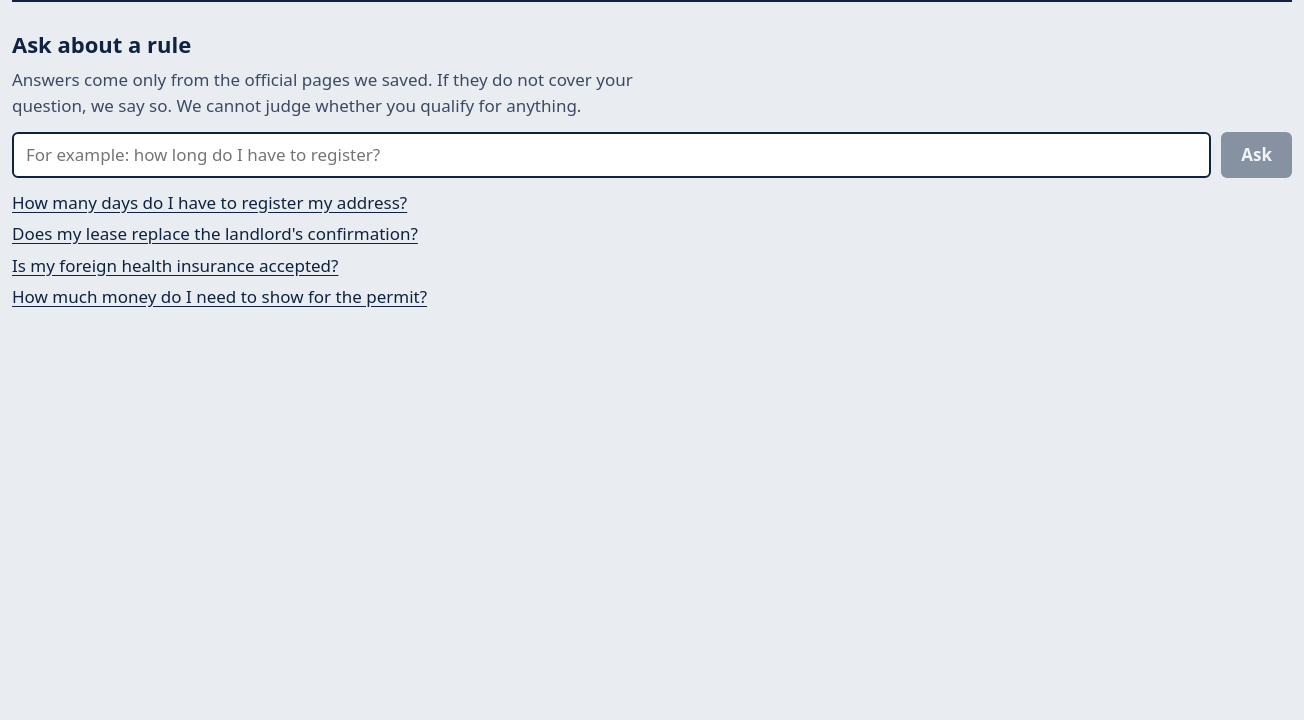
it: Ask form › a suggestion is submitted only after clicking Ask, then shows cited passages
What coordinates should you click on to do the following:
click the button "How many days do I have to register my address?"
I would click on:
 (210, 202)
Its box is [12, 190, 407, 215].
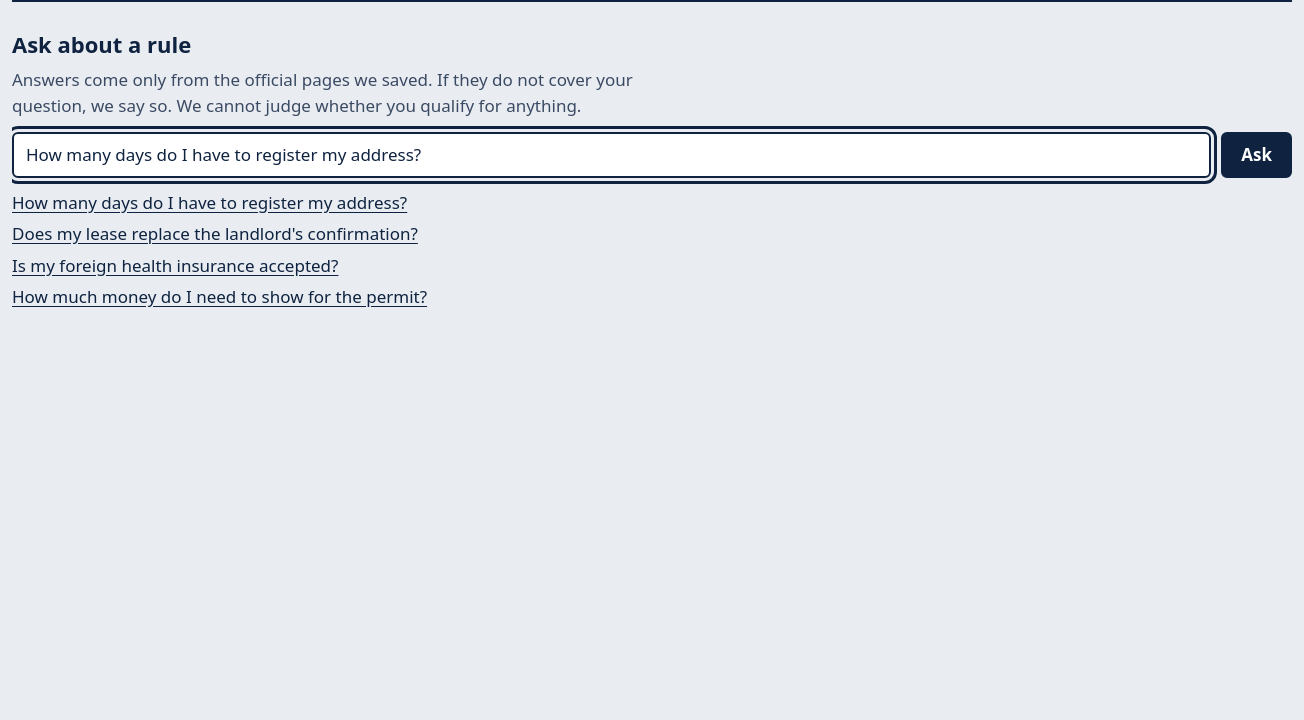
What coordinates should you click on to do the following:
click the button "Ask"
I would click on:
 (1257, 155)
Its box is [1221, 132, 1292, 178].
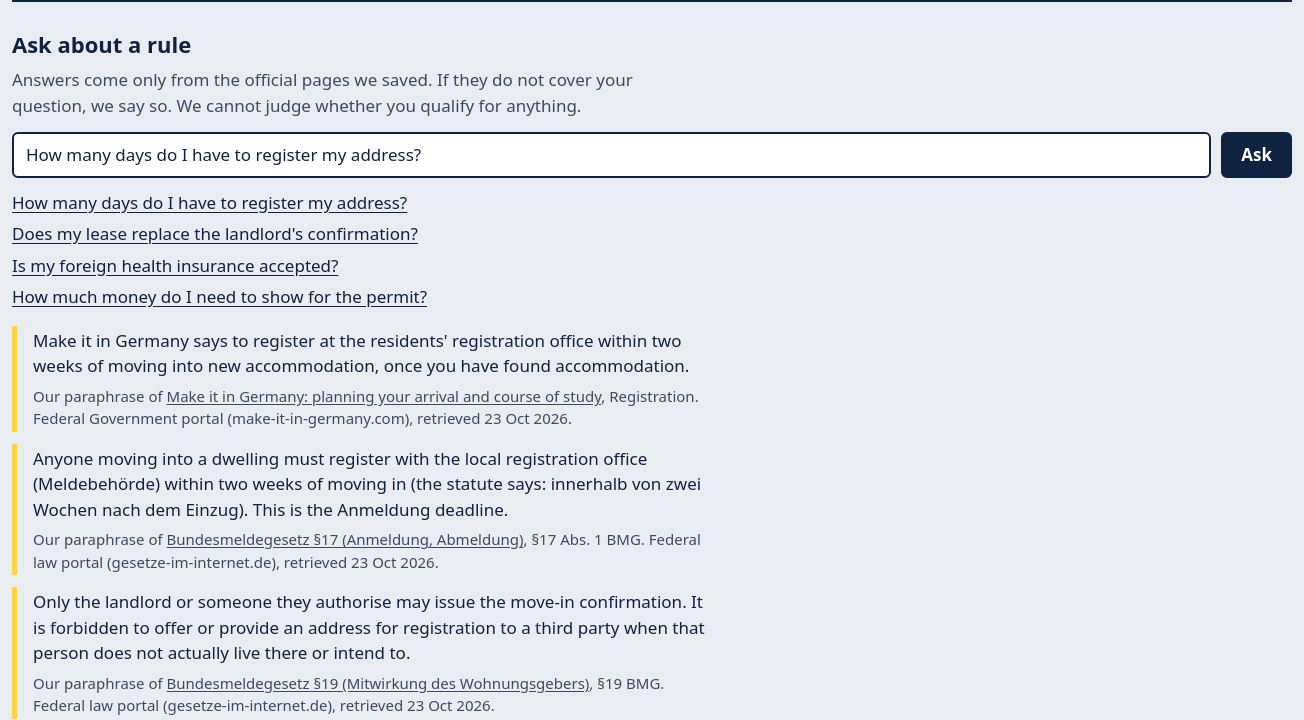
Expected: the text "retrieved" is shown, [409, 408, 484, 428]
